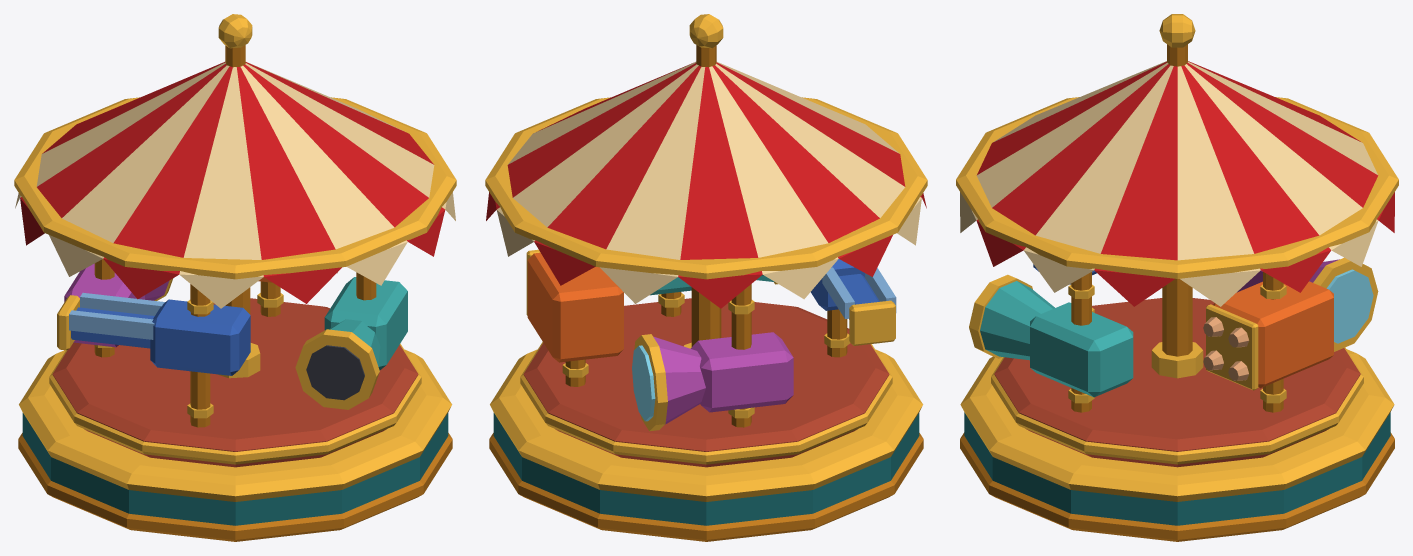
3 views of the same model, side by side, from view 1: azimuth 30°, elevation 25°; view 2: azimuth 150°, elevation 25°; view 3: azimuth 270°, elevation 25° (orthographic).
Parts seen in each view (by area): view 1: Model; view 2: Model; view 3: Model.
Boxes of the visible parts, <box> form: Model: <box>14,14,456,541</box>; Model: <box>485,14,927,541</box>; Model: <box>956,14,1398,541</box>.
Size of the model in its own units: 0.81 by 0.8984 by 0.81.
